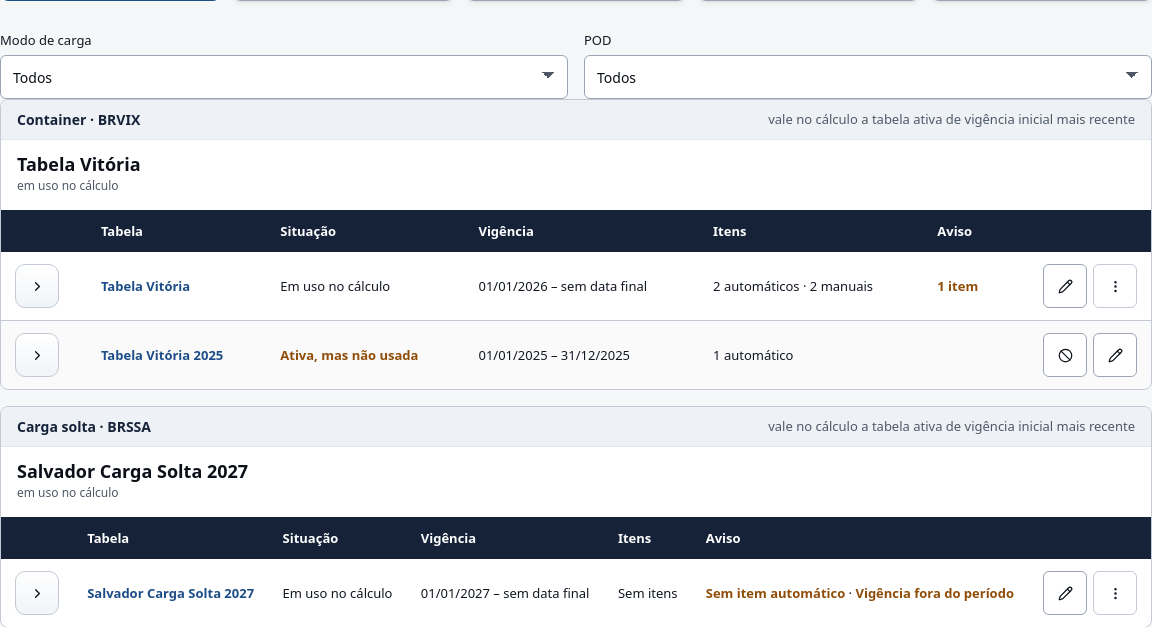
Test: Tabelas de Taxas Locais › agrupa pelo escopo do motor e diz qual tabela está em uso e por que a outra não
Expected: the text "Tabela Vitória" is shown, [17,152,141,176]
Expected: the text "em uso no cálculo" below "Container · BRVIX" is shown, [17,177,119,194]
Click the button "Salvador Carga Solta 2027" at (171, 593), box [87,584,254,602]
(page scrolled)
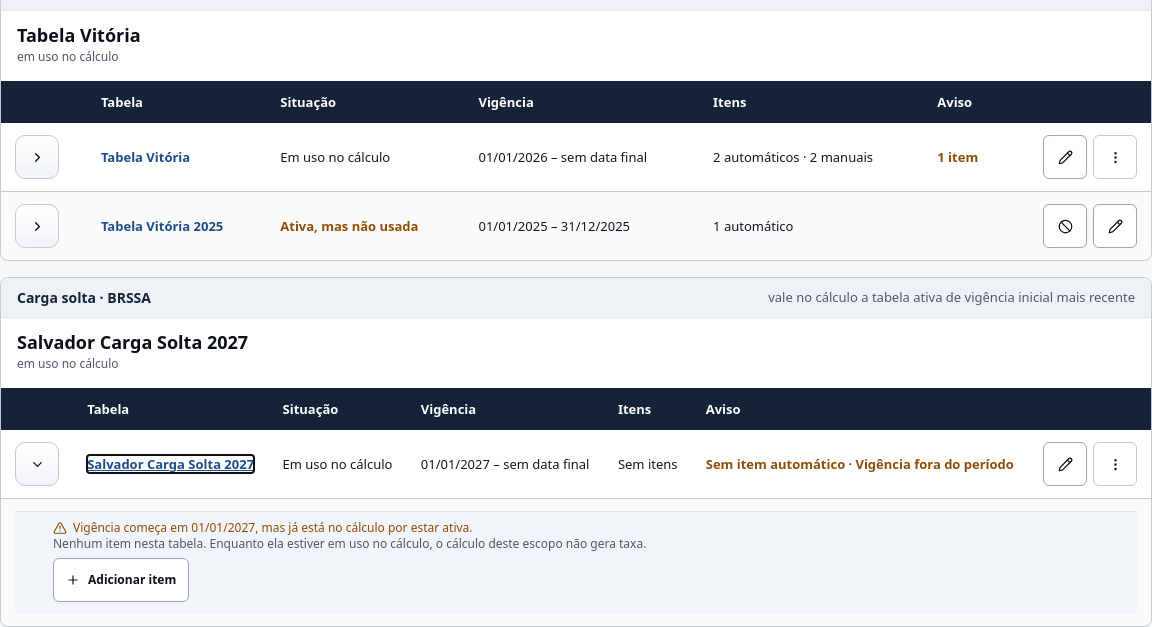
Now the text "Vigência começa em 01/01/2027, mas já está no cálculo" is shown, box [73,519,473,536]
Now the text "Enquanto ela estiver em uso no cálculo" is shown, box [206,535,646,552]
